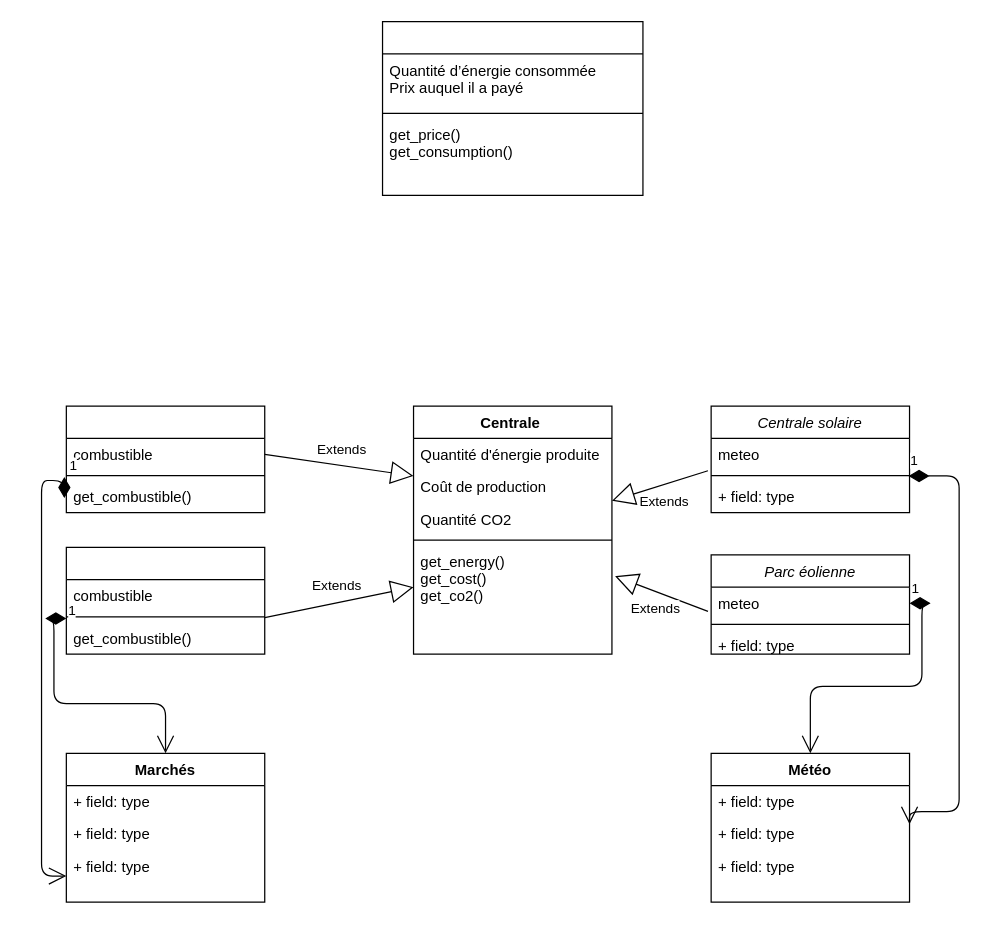
Image size: 1002x928. Some labels were removed from this diagram. The shapes that lost their labels are listed below. From the top down, each one's box as (x1, y1, x2, y2) in pixels, then its label:
(381, 20, 643, 195): Consommateur
(65, 405, 265, 513): Central à gaz
(65, 546, 265, 654): Centrale Nucleaire
